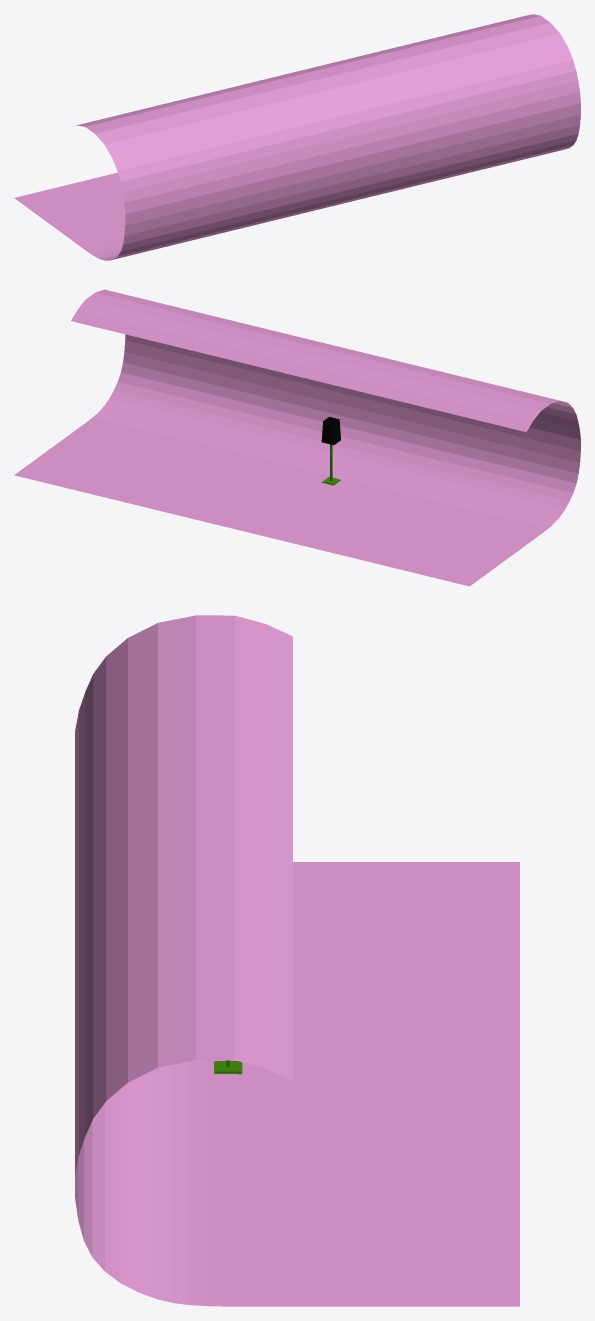
Rendered from garl.obj.
3 views of the same model, one above another, from view 1: azimuth 30°, elevation 25°; view 2: azimuth 150°, elevation 25°; view 3: azimuth 270°, elevation 25° (orthographic). The views are drawn at different scales.
Parts seen in each view (by area): view 1: sd; view 2: sd, Box02; view 3: sd.
Part boxes in pixels (left/top/right/bottom): sd: left=14, top=14, right=580, bottom=260; sd: left=14, top=289, right=580, bottom=586; Box02: left=322, top=417, right=340, bottom=444; sd: left=75, top=615, right=519, bottom=1306.
Size of the model in its own units: 1481 by 383 by 626.
